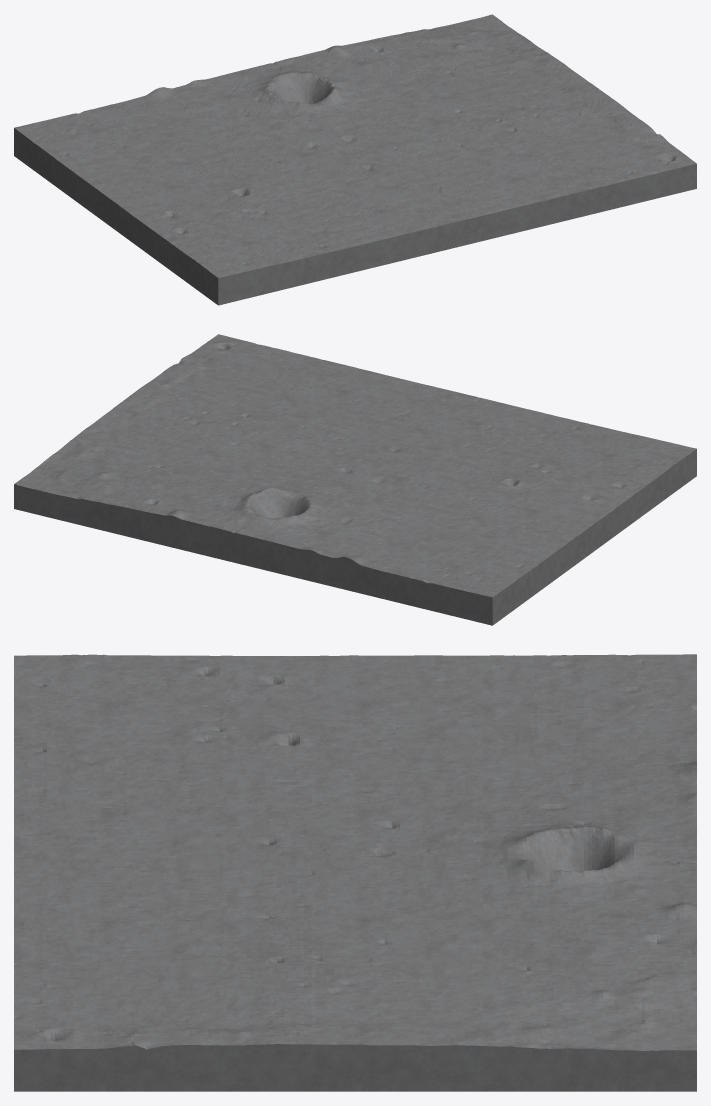
The model's file is lunar_surface2.dae.
3 renders of one model, top to bottom at view 1: azimuth 30°, elevation 25°; view 2: azimuth 150°, elevation 25°; view 3: azimuth 270°, elevation 25°, orthographic. The views are drawn at different scales.
Parts seen in each view (by area): view 1: lunar_surface2; view 2: lunar_surface2; view 3: lunar_surface2.
Boxes of the visible parts, x1=… form: lunar_surface2: x1=14, y1=14, x2=696, y2=305; lunar_surface2: x1=14, y1=334, x2=696, y2=625; lunar_surface2: x1=14, y1=654, x2=696, y2=1091.
Size of the model in its own units: 7.22 by 5.34 by 0.5173.
Materials: 1 (1 with a texture image).
